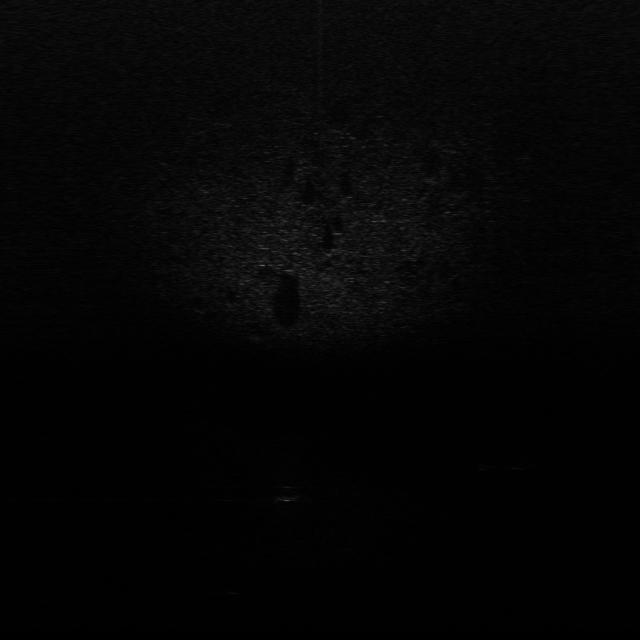ball: (268, 482, 303, 503)
human body: (476, 457, 540, 474)
